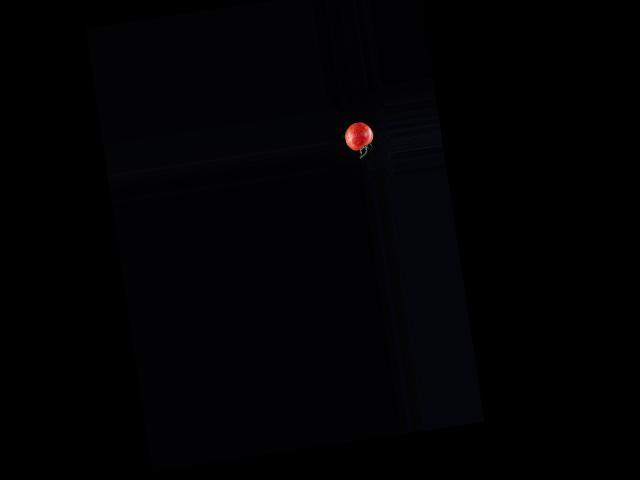tomato: (342, 120, 374, 152)
